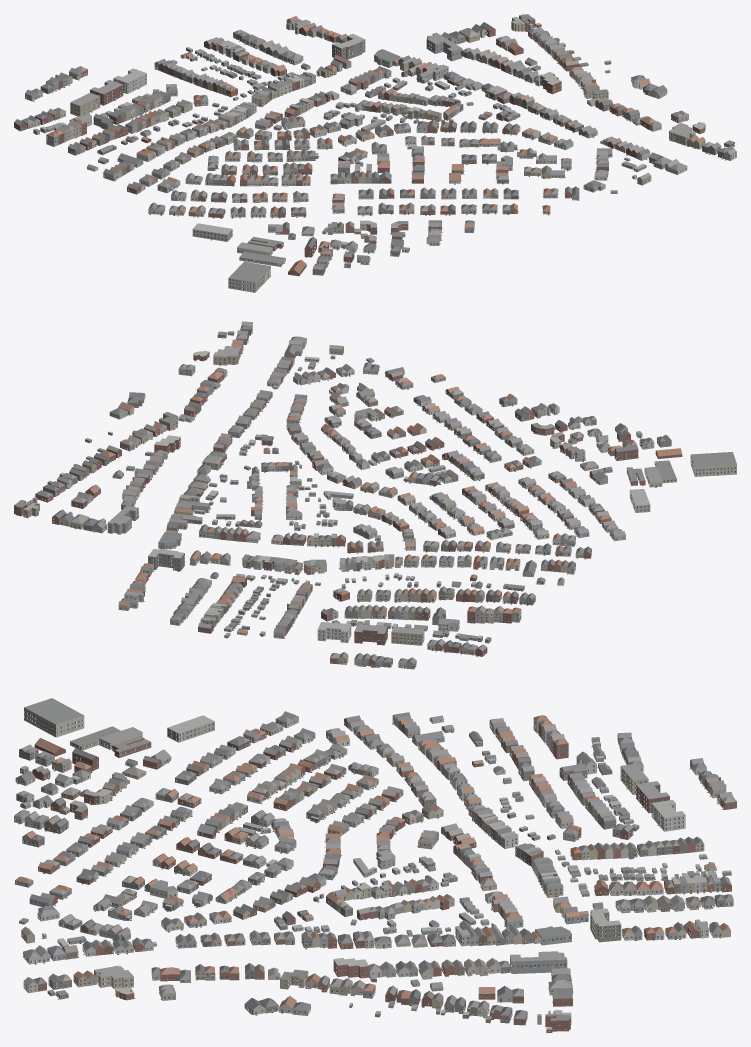
3 views of the same model, one above another, from view 1: azimuth 30°, elevation 25°; view 2: azimuth 150°, elevation 25°; view 3: azimuth 270°, elevation 25° (orthographic). The views are drawn at different scales.
Parts seen in each view (by area): view 1: way/1149169848, way/819395830, way/1134778446, way/184770793, way/1135438452, way/1135438450, way/1135438451; view 2: way/1149169848, way/1134778446, way/1135438450, way/1135438451, way/819395830, way/1135438452; view 3: way/1149169848, way/819395830, way/1134778446, way/1135438450, way/184770793, way/376314021, way/1135438451, way/902368454, way/1135438452, way/376314034.
Boxes of the visible parts, x1,y1,x2,y2 form: way/1149169848: (228,261,270,292); way/819395830: (426,32,462,61); way/1134778446: (332,34,365,59); way/184770793: (192,223,232,241); way/1135438452: (70,92,100,116); way/1135438450: (113,68,146,93); way/1135438451: (90,79,123,105); way/1149169848: (690,452,736,476); way/1134778446: (148,549,184,571); way/1135438450: (317,622,351,642); way/1135438451: (354,624,387,645); way/819395830: (107,505,138,534); way/1135438452: (391,626,424,645); way/1149169848: (24,698,84,737); way/819395830: (510,951,567,973); way/1134778446: (590,908,621,942); way/1135438450: (651,799,685,831); way/184770793: (167,715,214,742); way/376314021: (94,965,133,988); way/1135438451: (636,781,669,813); way/902368454: (333,958,369,978); way/1135438452: (620,763,648,794); way/376314034: (535,926,571,945).
Size of the model in its own units: 525 by 41.77 by 509.
